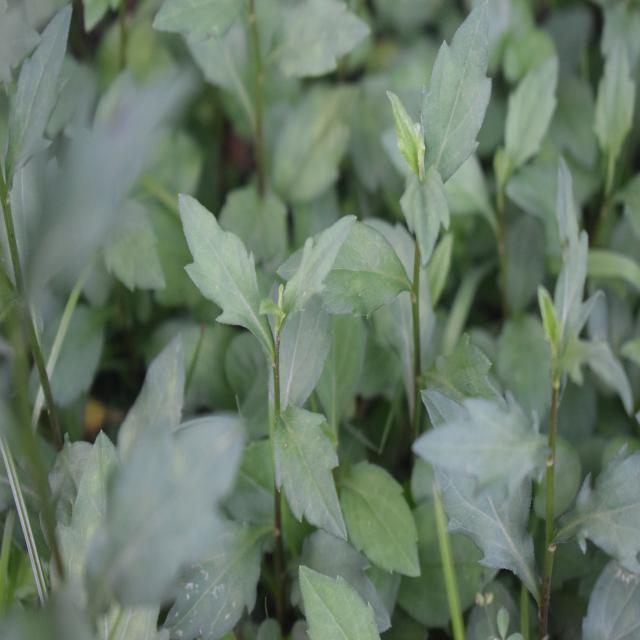Indian aster: (330, 11, 520, 434), (462, 163, 636, 614), (170, 173, 368, 532)
